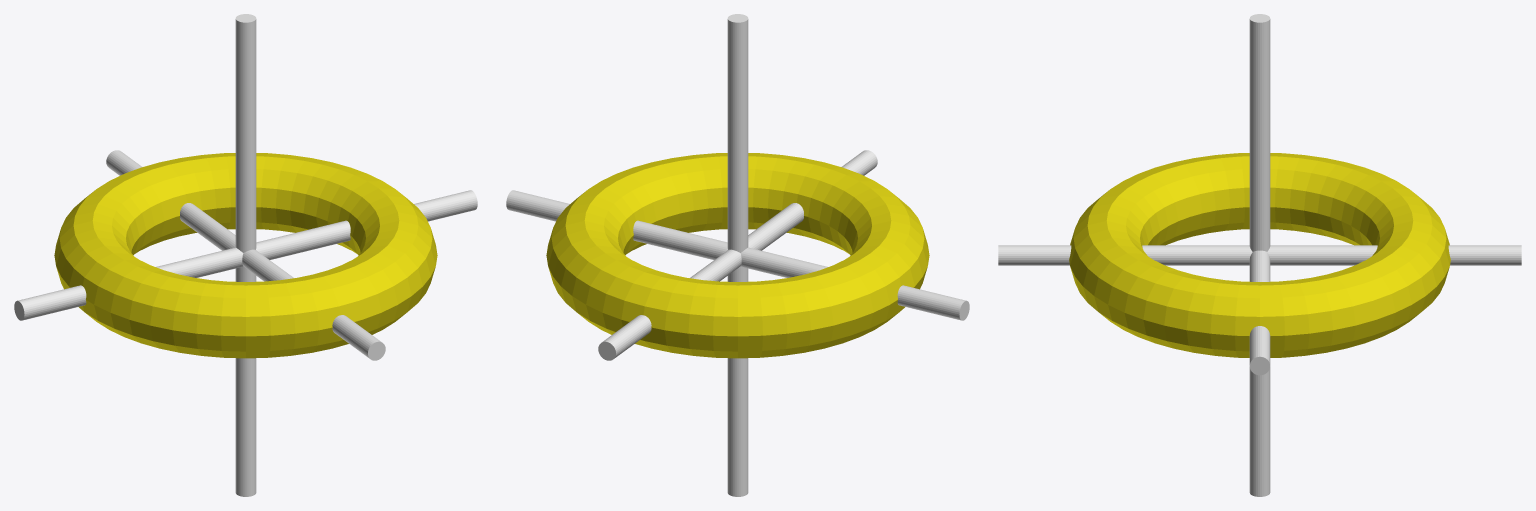
The model's file is WorldZero_01.glb.
3 views of the same model, side by side, from view 1: azimuth 30°, elevation 25°; view 2: azimuth 150°, elevation 25°; view 3: azimuth 270°, elevation 25° (orthographic).
Parts seen in each view (by area): view 1: Torus, Cylinder, Cylinder.001, Cylinder.004; view 2: Torus, Cylinder, Cylinder.001, Cylinder.004; view 3: Torus, Cylinder, Cylinder.004, Cylinder.001.
Part boxes in pixels (x1,y1,x2,y2): Torus: (54,153,437,358); Cylinder: (235,14,256,496); Cylinder.001: (14,190,477,320); Cylinder.004: (106,150,385,360); Torus: (546,153,929,358); Cylinder: (727,14,748,496); Cylinder.001: (506,190,969,320); Cylinder.004: (598,150,877,360); Torus: (1069,153,1450,357); Cylinder: (1249,14,1270,496); Cylinder.004: (998,245,1521,265); Cylinder.001: (1249,250,1270,375).
Size of the model in its own units: 0.1915 by 0.1915 by 0.1915.
